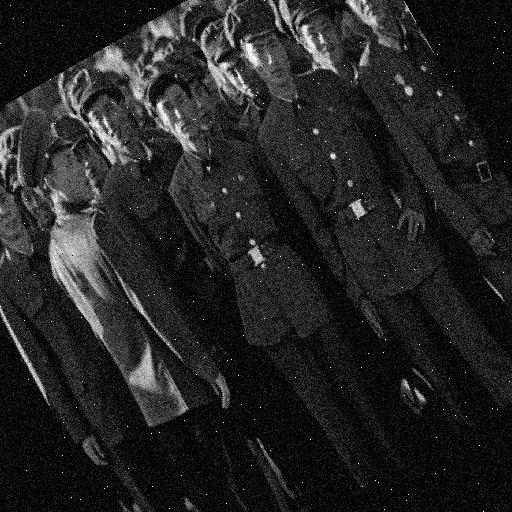north army: (17, 100, 263, 469)
